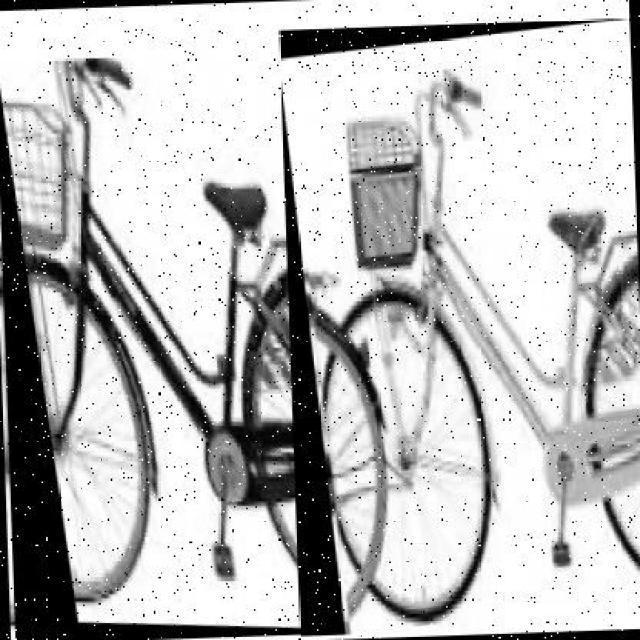bicycle: (278, 18, 640, 640), (1, 51, 381, 640)
